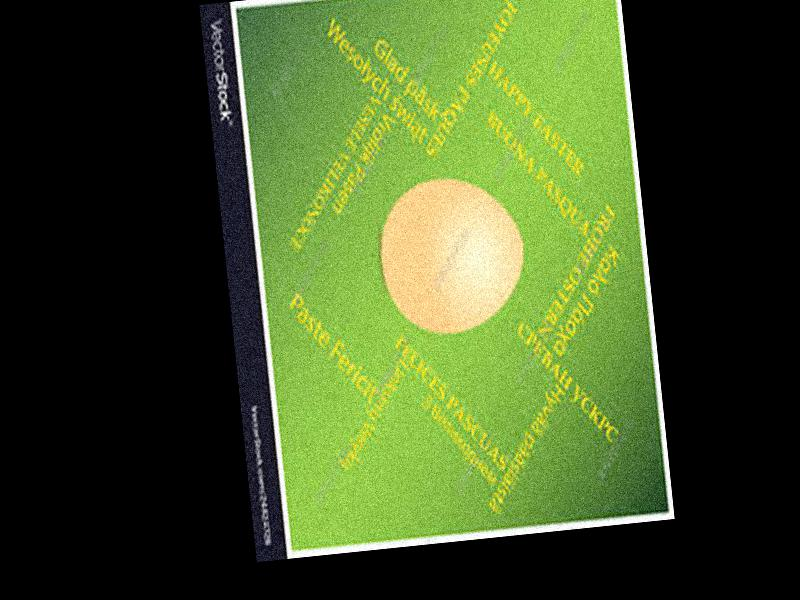Eggs: (375, 173, 527, 340)
